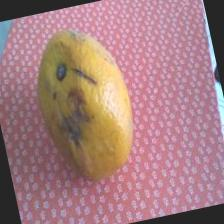Orange Rotten: (20, 14, 154, 196)
